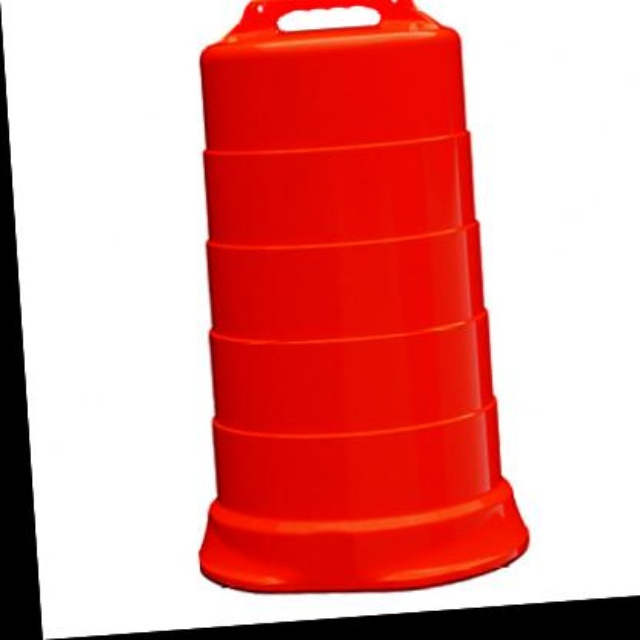obstacle: (161, 0, 528, 611)
